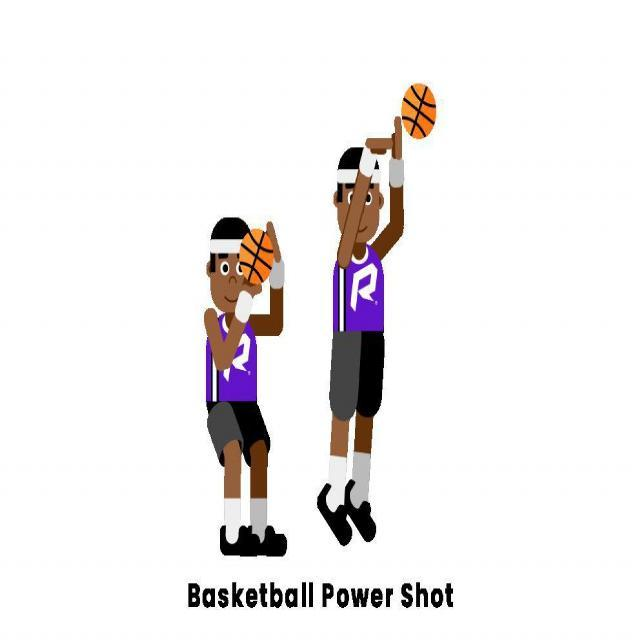Basketball: (240, 228, 274, 286), (401, 84, 436, 140)
